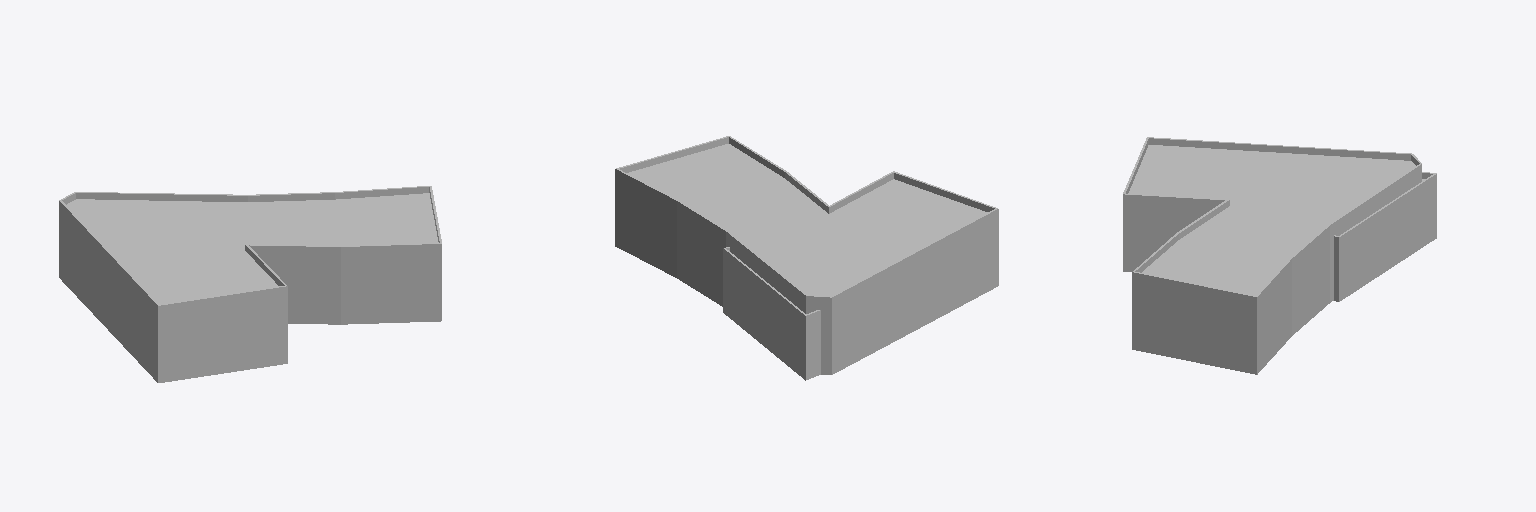
Rendered from office_7.obj.
3 renders of one model, left to right at view 1: azimuth 30°, elevation 25°; view 2: azimuth 150°, elevation 25°; view 3: azimuth 270°, elevation 25°, orthographic.
Parts seen in each view (by area): view 1: object_1; view 2: object_1; view 3: object_1.
Part boxes in pixels (bbox=[...]): object_1: bbox=[59, 186, 441, 382]; object_1: bbox=[615, 136, 998, 380]; object_1: bbox=[1123, 137, 1436, 374].
Size of the model in its own units: 159 by 36 by 132.